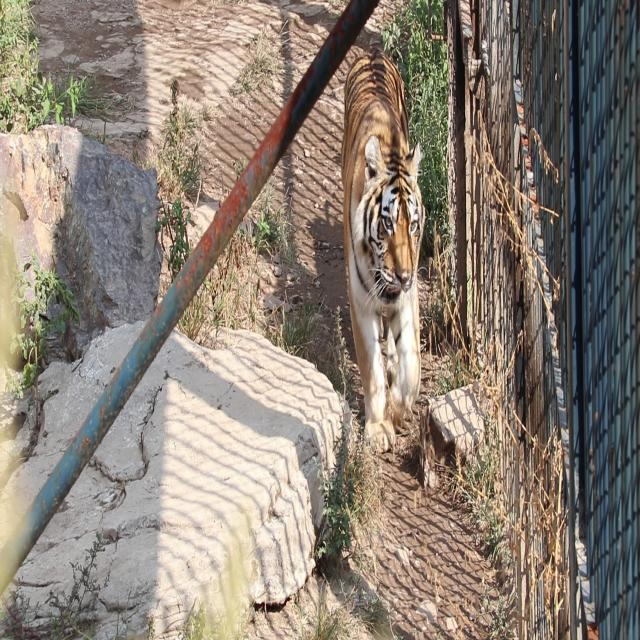Tiger: (321, 5, 468, 562)
